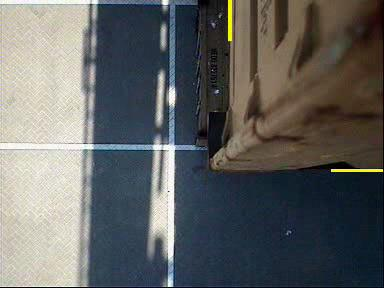groundmarker_2: (135, 13, 195, 54), (136, 154, 196, 195)
